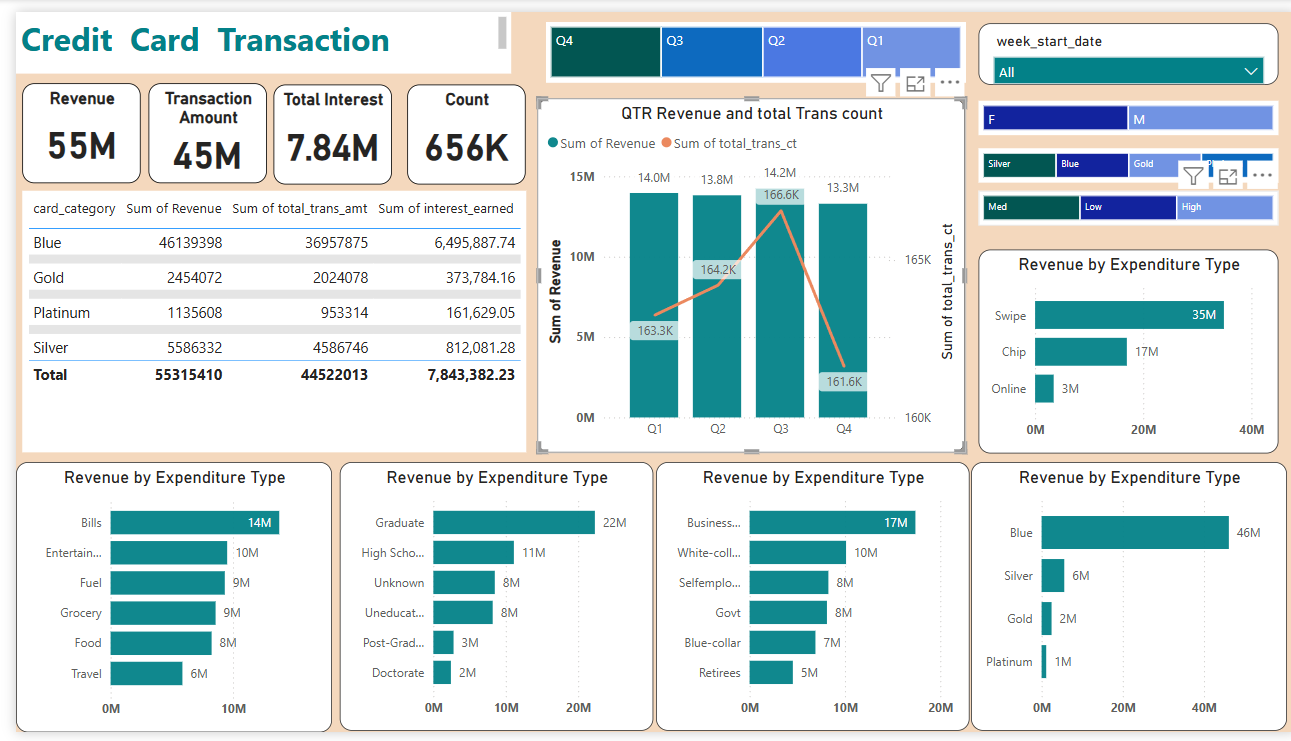

The page's visual inventory and layout, read from the dashboard file:
{"tool":"powerbi","page":{"name":"Cc transation","canvas":[1280,720],"ordinal":1},"visuals":[{"type":"textbox","box":[0,0,495.1,61.7],"z":0},{"type":"lineStackedColumnComboChart","title":"QTR Revenue and total Trans count","fields":{"Category":["public cc_detail.qtr"],"Y":["Sum(public cc_detail.Revenue)"],"Y2":["Sum(public cc_detail.total_trans_ct)"]},"box":[521,86.4,428.4,354.3],"z":1000},{"type":"barChart","title":"Revenue by Expenditure Type","fields":{"Y":["Sum(public cc_detail.Revenue)"],"Category":["public cc_detail.exp_type"]},"box":[0,450.6,316,270.4],"z":2000},{"type":"barChart","title":"Revenue by Expenditure Type","fields":{"Y":["Sum(public cc_detail.Revenue)"],"Category":["public cust_detail.education_level"]},"box":[323.5,450.6,313.6,269.1],"z":3000},{"type":"barChart","title":"Revenue by Expenditure Type","fields":{"Y":["Sum(public cc_detail.Revenue)"],"Category":["public cust_detail.customer_job"]},"box":[639.5,450.6,313.6,269.1],"z":4000},{"type":"barChart","title":"Revenue by Expenditure Type","fields":{"Y":["Sum(public cc_detail.Revenue)"],"Category":["public cc_detail.card_category"]},"box":[955.6,450.6,316,269.1],"z":5000},{"type":"barChart","title":"Revenue by Expenditure Type","fields":{"Y":["Sum(public cc_detail.Revenue)"],"Category":["public cc_detail.use_chip"]},"box":[963,237,300,203.7],"z":6000},{"type":"tableEx","fields":{"Values":["public cc_detail.card_category","Sum(public cc_detail.Revenue)","Sum(public cc_detail.total_trans_amt)","Sum(public cc_detail.interest_earned)"]},"box":[6.2,179,503.7,261.7],"z":7000},{"type":"card","title":"Revenue","fields":{"Values":["Sum(public cc_detail.Revenue)"]},"box":[6.2,71.6,118.5,100],"z":8000},{"type":"card","title":"Transaction  Amount","fields":{"Values":["Sum(public cc_detail.total_trans_amt)"]},"box":[132.1,71.6,118.5,100],"z":9000},{"type":"card","title":"Total Interest","fields":{"Values":["Sum(public cc_detail.interest_earned)"]},"box":[258,72.8,118.5,100],"z":10000},{"type":"card","title":"Count","fields":{"Values":["Sum(public cc_detail.total_trans_ct)"]},"box":[391.4,72.8,118.5,100],"z":11000},{"type":"slicer","fields":{"Values":["public cc_detail.week_start_date"]},"box":[963,11.1,300,61.7],"z":12000},{"type":"treemap","fields":{"Group":["public cc_detail.qtr"],"Values":["Avg(public cc_detail.client_num)"]},"box":[529.6,9.9,419.8,60.5],"z":13000},{"type":"treemap","fields":{"Group":["public cust_detail.gender"],"Values":["Avg(public cc_detail.client_num)"]},"box":[963,88.9,300,34.6],"z":14000},{"type":"treemap","fields":{"Group":["public cc_detail.card_category"],"Values":["Avg(public cc_detail.client_num)"]},"box":[963,135.8,300,34.6],"z":15000},{"type":"treemap","fields":{"Group":["public cust_detail.IncomeGroup"],"Values":["Avg(public cc_detail.client_num)"]},"box":[963,179,300,34.6],"z":16000}]}

Visuals, with their boxes in screenshot pixels (x1, y1, x2, y2), scaled from the page's 1280x720 canvas onto the 1291x741 screenshot:
textbox: x1=0 y1=0 x2=499 y2=63
"QTR Revenue and total Trans count" lineStackedColumnComboChart: x1=525 y1=89 x2=958 y2=454
"Revenue by Expenditure Type" barChart: x1=0 y1=464 x2=319 y2=740
"Revenue by Expenditure Type" barChart: x1=326 y1=464 x2=643 y2=740
"Revenue by Expenditure Type" barChart: x1=645 y1=464 x2=961 y2=740
"Revenue by Expenditure Type" barChart: x1=964 y1=464 x2=1283 y2=740
"Revenue by Expenditure Type" barChart: x1=971 y1=244 x2=1274 y2=454
tableEx - public cc_detail.card_category x Sum(public cc_detail.Revenue): x1=6 y1=184 x2=514 y2=454
"Revenue" card: x1=6 y1=74 x2=126 y2=177
"Transaction  Amount" card: x1=133 y1=74 x2=253 y2=177
"Total Interest" card: x1=260 y1=75 x2=380 y2=178
"Count" card: x1=395 y1=75 x2=514 y2=178
slicer - public cc_detail.week_start_date: x1=971 y1=11 x2=1274 y2=75
treemap - public cc_detail.qtr x Avg(public cc_detail.client_num): x1=534 y1=10 x2=958 y2=72
treemap - public cust_detail.gender x Avg(public cc_detail.client_num): x1=971 y1=91 x2=1274 y2=127
treemap - public cc_detail.card_category x Avg(public cc_detail.client_num): x1=971 y1=140 x2=1274 y2=175
treemap - public cust_detail.IncomeGroup x Avg(public cc_detail.client_num): x1=971 y1=184 x2=1274 y2=220
